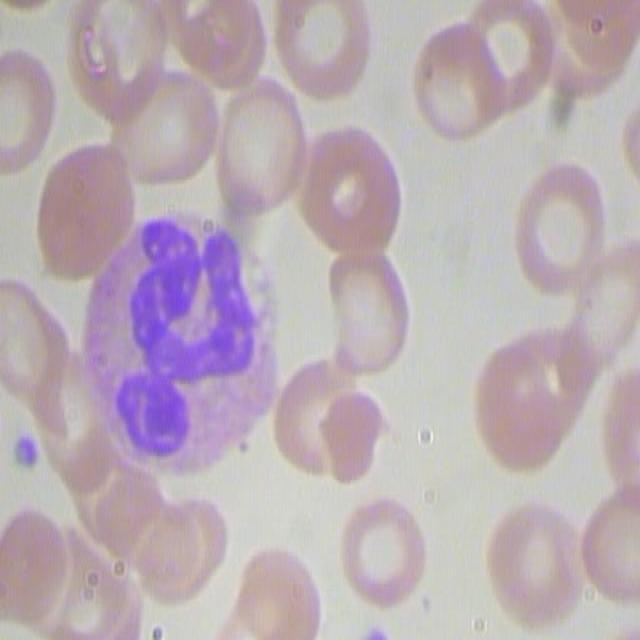RBC: (469, 323, 586, 472), (289, 120, 403, 261), (272, 358, 390, 484), (204, 77, 305, 221), (130, 486, 234, 625), (409, 14, 512, 150), (513, 160, 613, 300), (112, 71, 225, 194), (34, 146, 132, 284), (485, 496, 583, 630), (146, 1, 268, 106), (61, 0, 170, 114), (323, 243, 412, 379), (0, 499, 87, 637), (528, 2, 636, 104), (268, 2, 371, 107), (335, 492, 427, 608), (220, 545, 323, 640), (474, 1, 558, 110), (0, 276, 66, 410), (579, 484, 640, 605), (0, 50, 52, 184)
WBC: (83, 187, 277, 493)
platelets: (7, 435, 49, 478)
